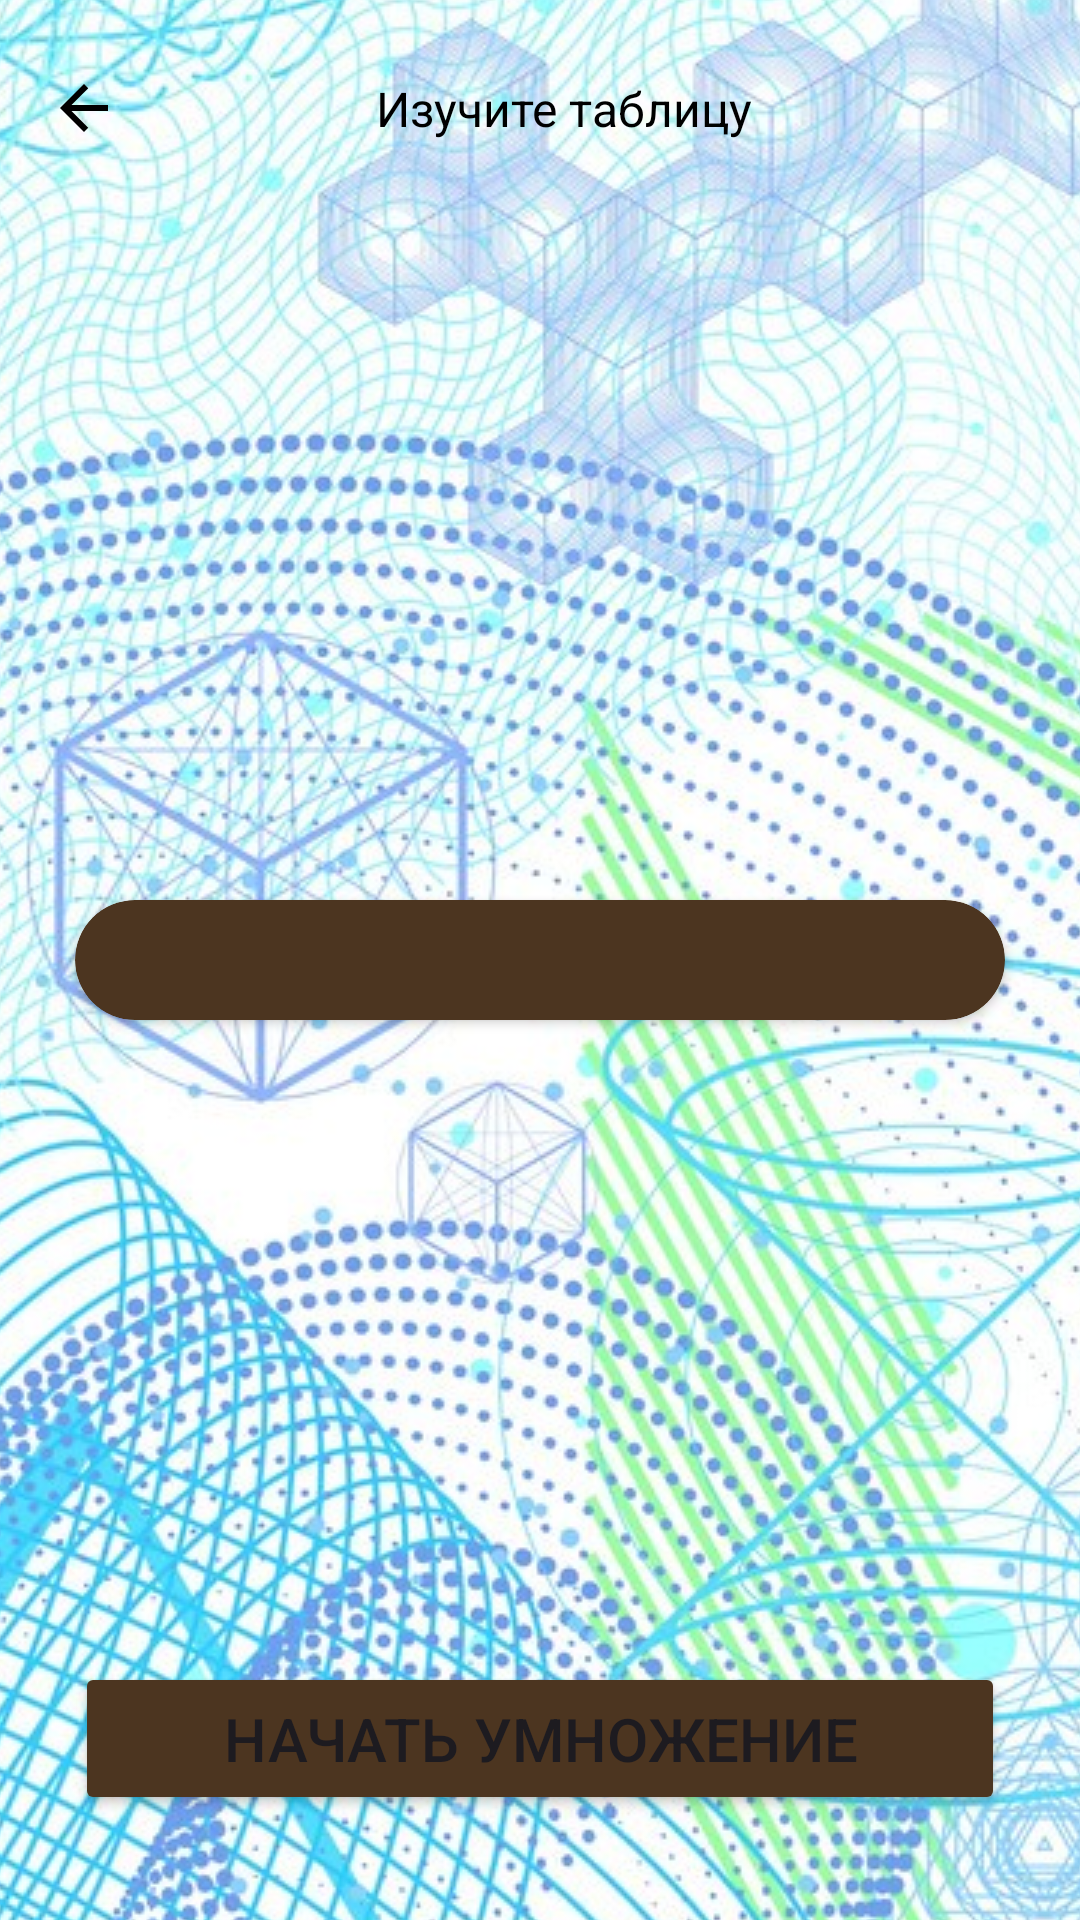

Point at icon controls on the screen. Image size 1080*1920, points as (x=x, y=y).
back: (x=84, y=108)
